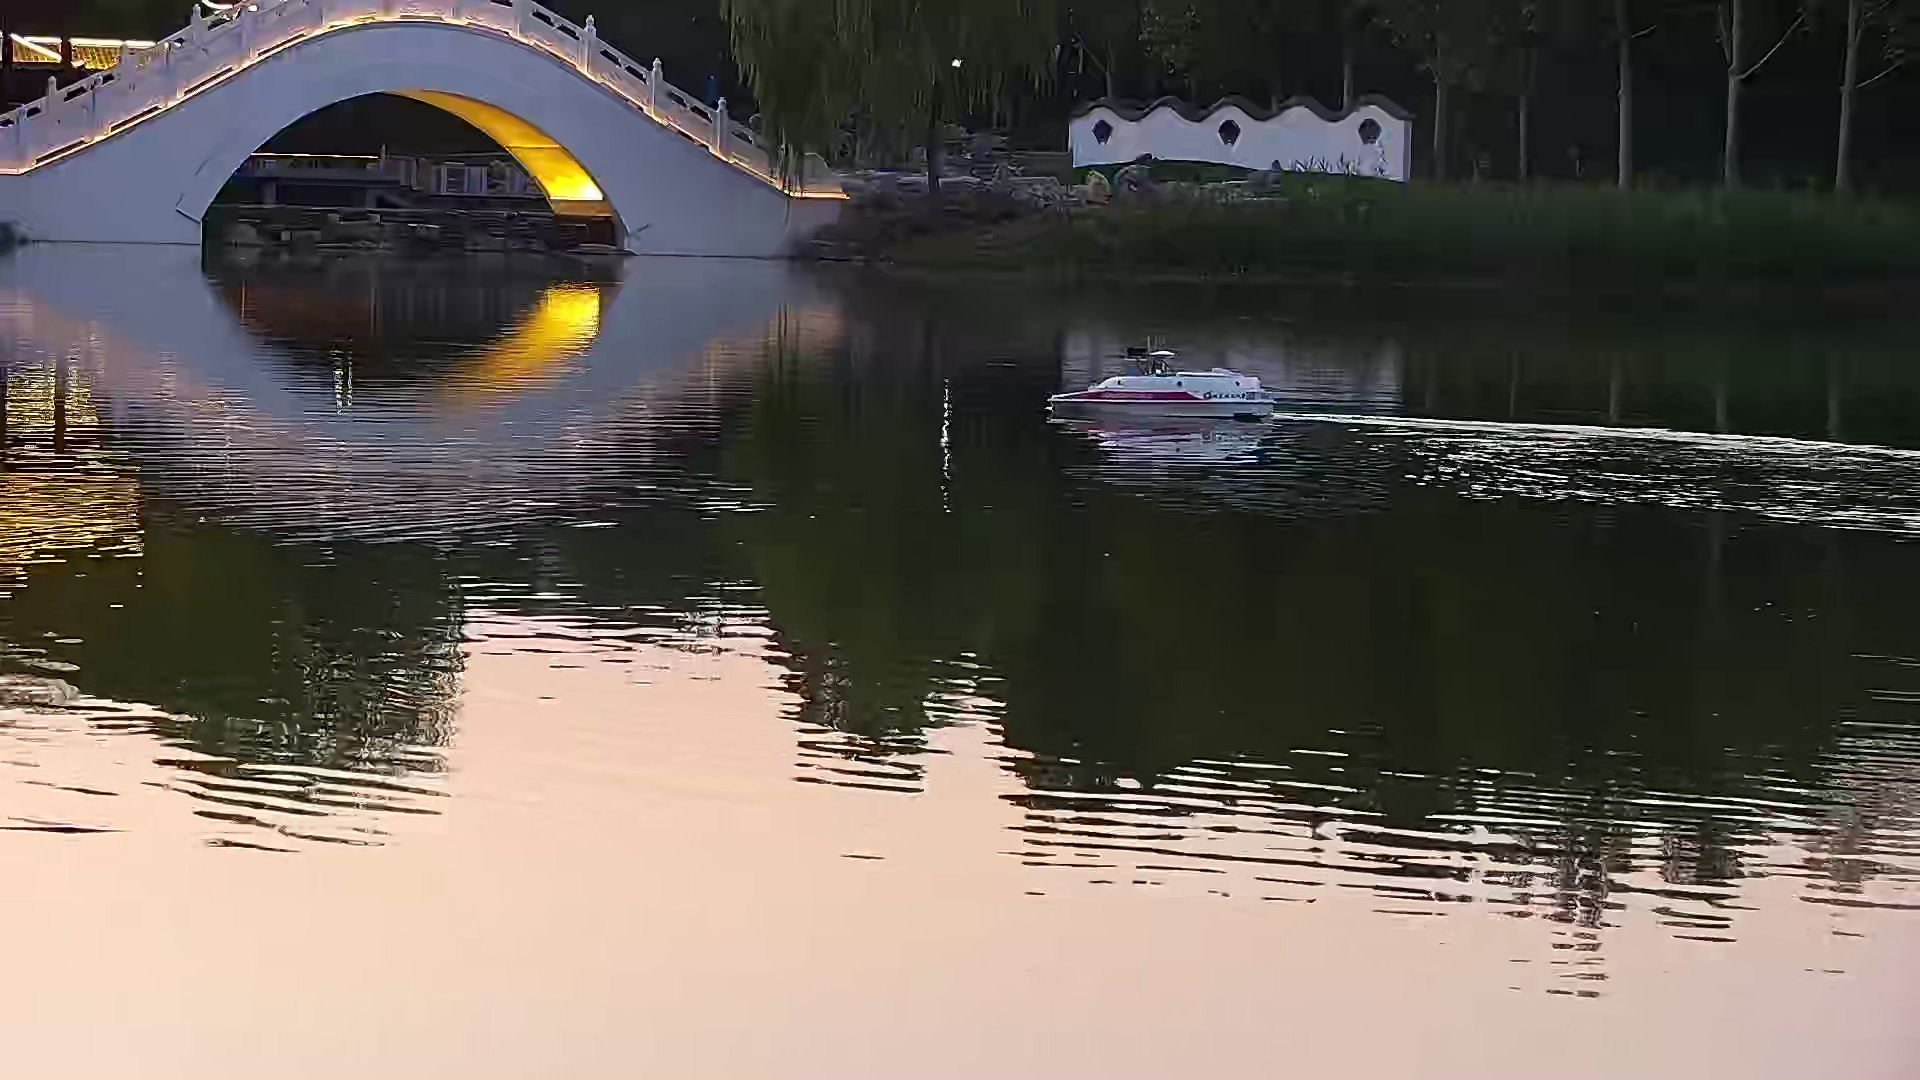boat: (1027, 334, 1283, 433)
bridge: (1, 1, 811, 262)
